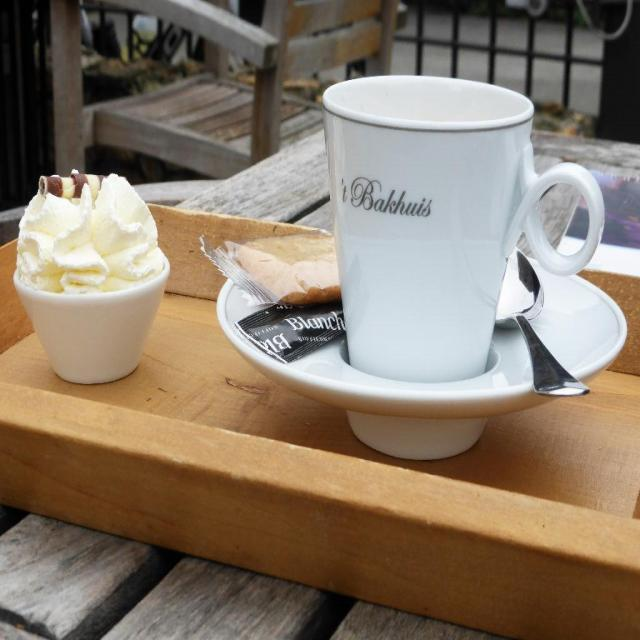Ice cream: (8, 168, 166, 380)
